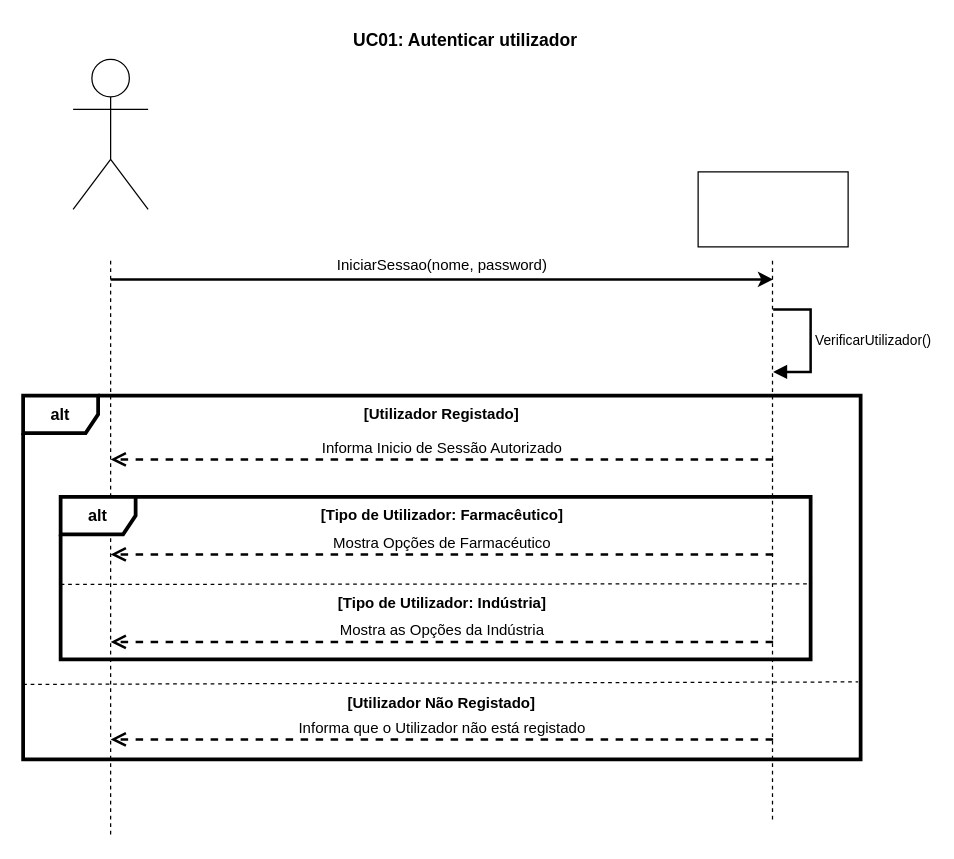
This 954x859 diagram has some shape labels left out. The centre of each missing label's shape, as x and y in pixels:
":Sistema" belongs at pixel 772 209.
":Utilizador" belongs at pixel 110 133.
